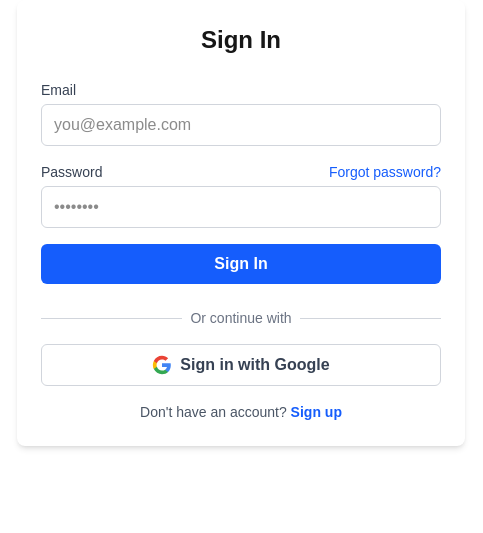
Test: LoginForm › Form Submission - Error Handling › should display error message on sign in failure
Type "test@example.com" into the field labelled "Email" at (241, 125), box [41,104,441,146]
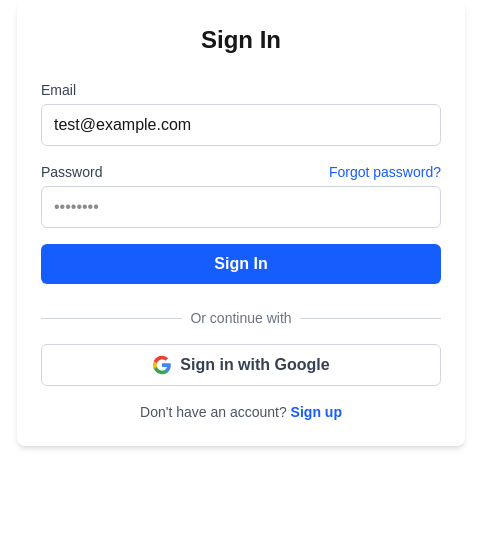
Type "wrongpassword" into the password field labelled "Password" at (241, 207), box [41,186,441,228]
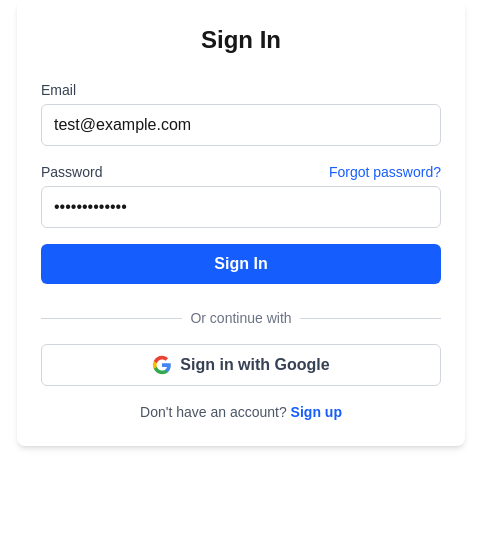
Click the button "Sign In" at (241, 264), box [41,244,441,284]
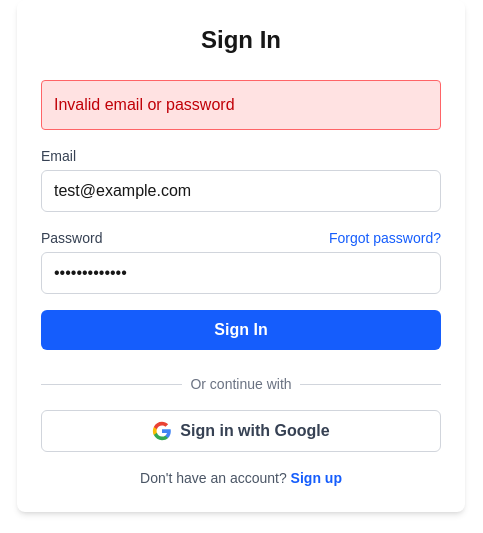
Expected: the text "Invalid email or password" is shown, [41,80,441,130]
